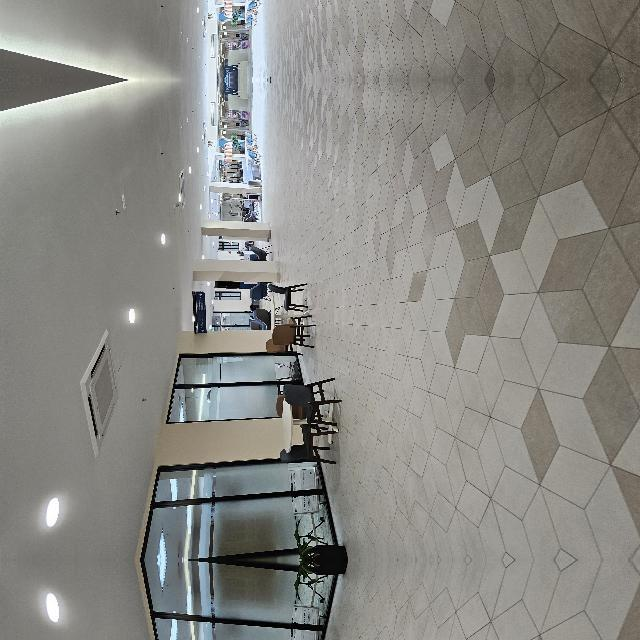obstacle: (94, 352, 188, 423), (203, 340, 285, 388)
